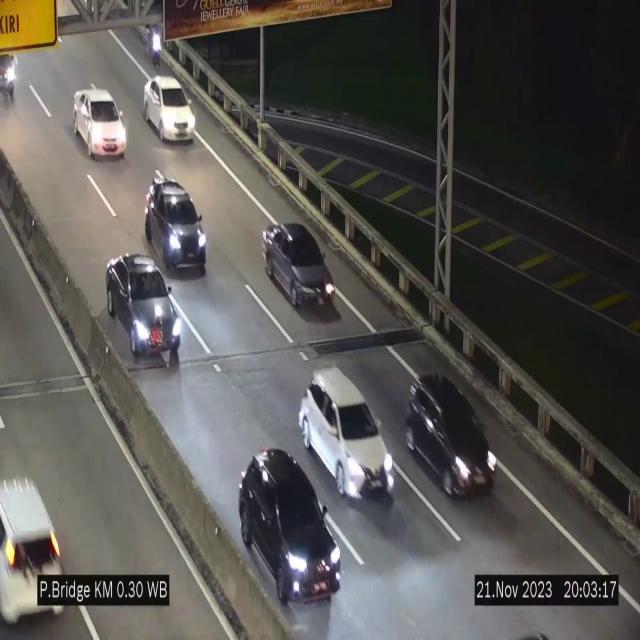Car: (238, 448, 342, 638), (298, 368, 394, 498), (0, 456, 66, 640), (405, 372, 499, 496), (106, 256, 180, 364), (263, 223, 337, 309), (145, 178, 206, 274), (73, 89, 127, 157), (143, 76, 195, 142), (0, 34, 29, 108)
Motorcycle: (138, 4, 168, 76)
